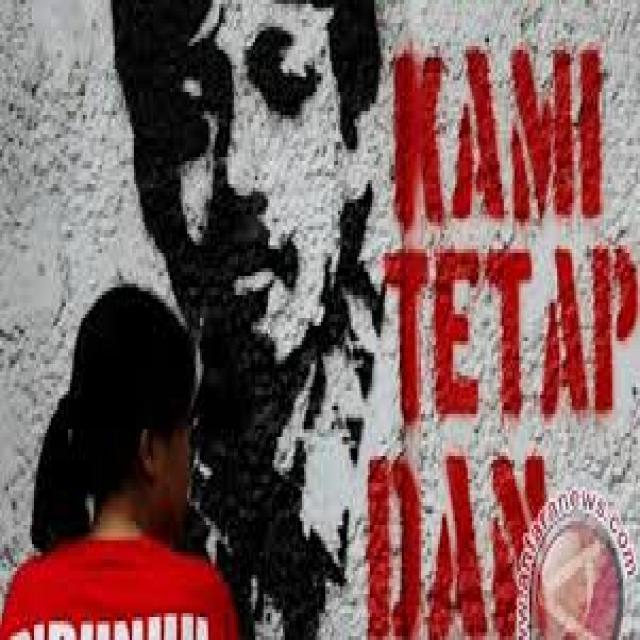-: (112, 2, 386, 636), (368, 40, 636, 640)
